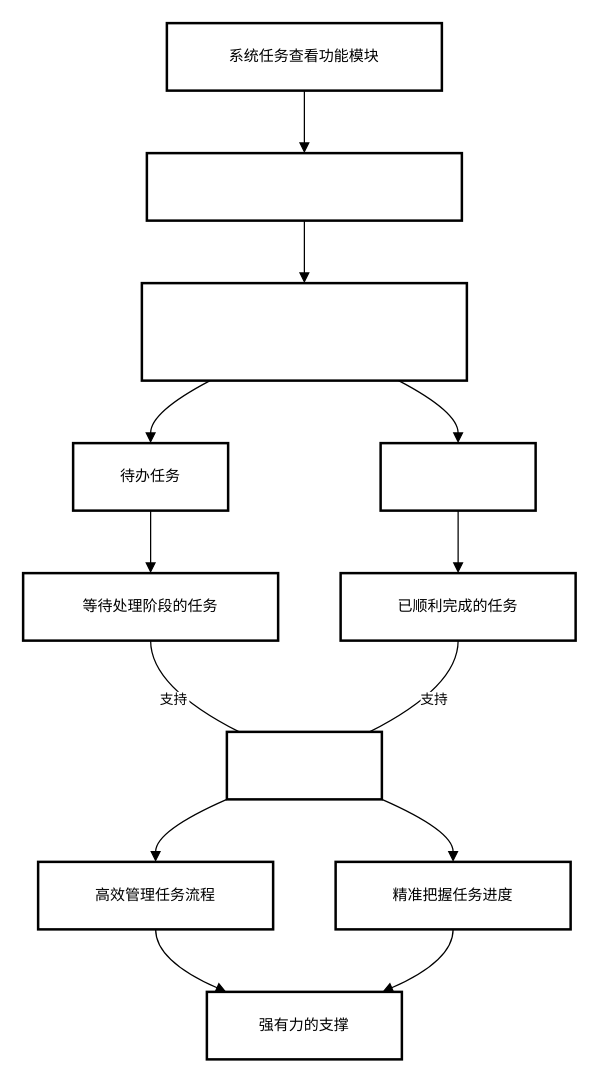
Image size: 598x1081. Some labels were removed from this diagram. The shapes that lost their labels are listed below. From the top down, each one's centre as x and y in pixels, then its label:
the point at 303,186: 支持用户以列表化清单方式
the point at 304,331: 查阅与自身相关的各类任务信息
the point at 457,476: 已办任务
the point at 303,765: 清晰查阅
